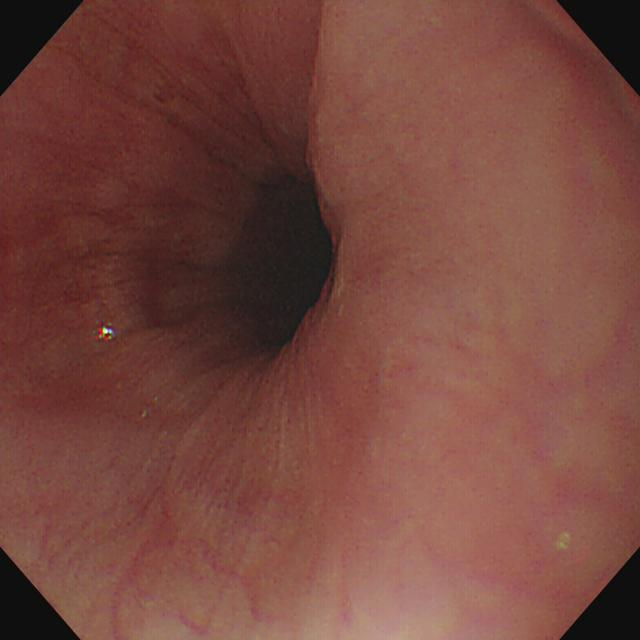E: (237, 173, 333, 353)
U: (94, 325, 117, 343)
